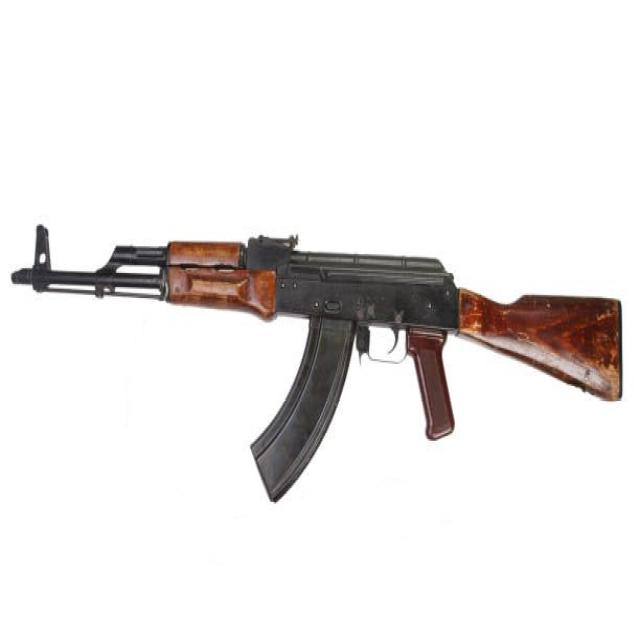rifle: (12, 213, 629, 516)
